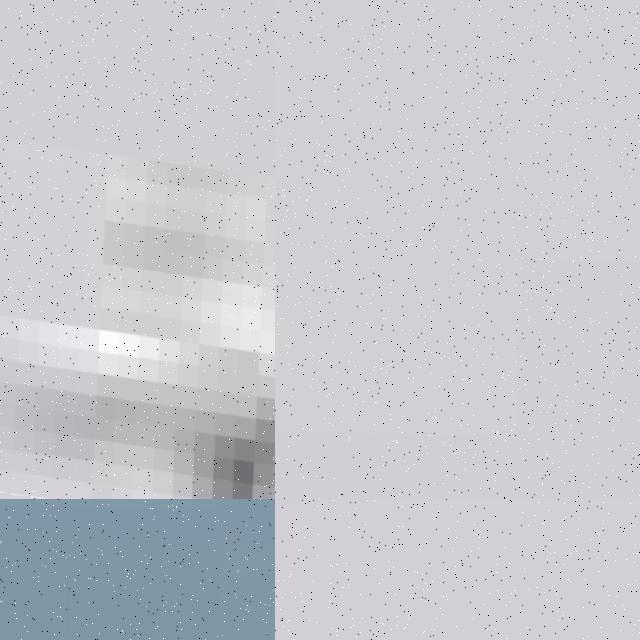drone: (0, 0, 275, 499)
